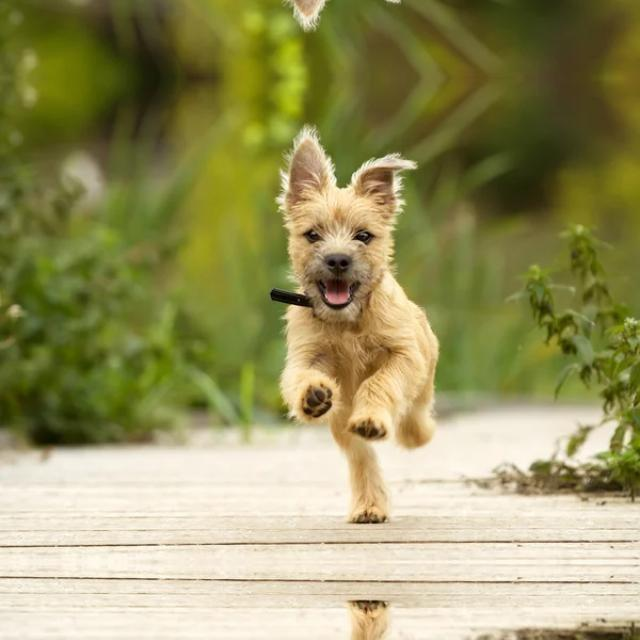dog: (233, 126, 452, 522), (233, 601, 452, 640), (233, 0, 452, 27)
